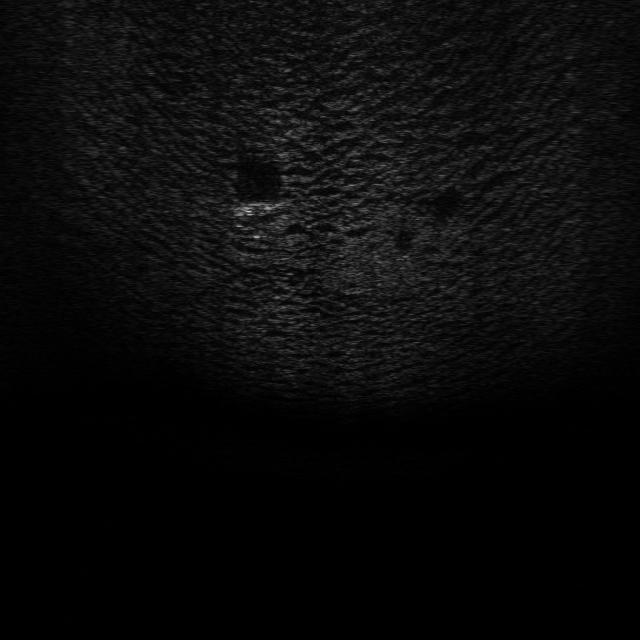plane: (232, 194, 286, 218)
